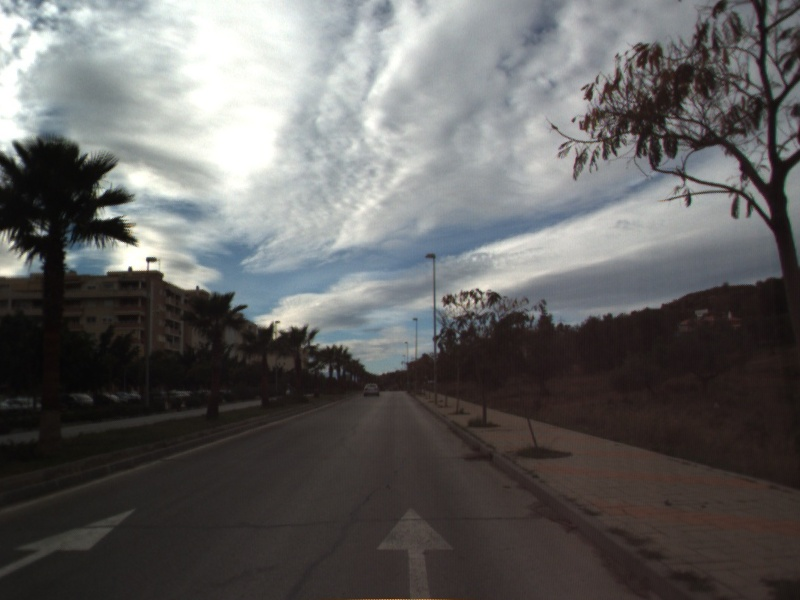STRAIGHT: (1, 504, 141, 580), (374, 504, 458, 600)
